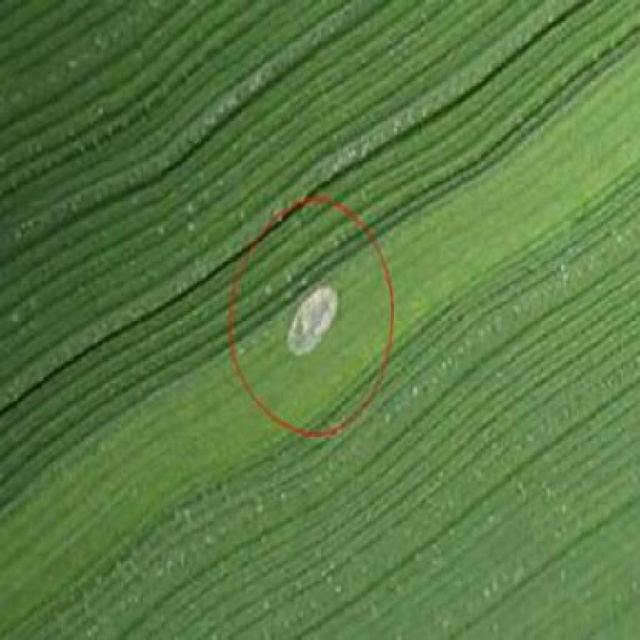leaf-folder: (269, 275, 354, 391)
